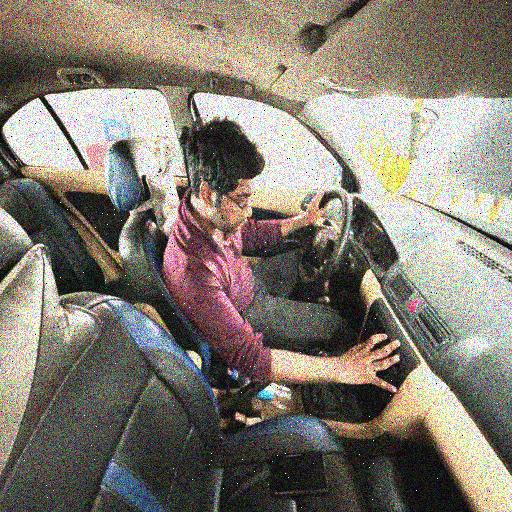operatingradio: (160, 116, 401, 400)
